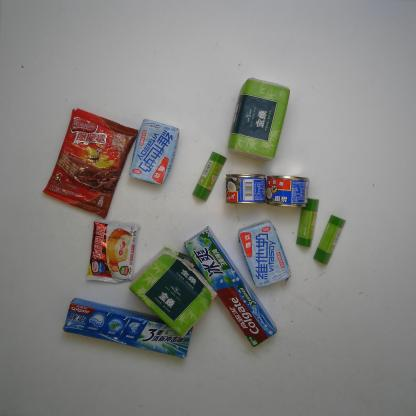Canned Food: (262, 174, 310, 210), (223, 168, 268, 206)
Dessert: (40, 104, 141, 220), (83, 216, 144, 289)
Milk: (237, 219, 291, 292), (128, 118, 183, 186)
Personal Hygiene: (182, 228, 279, 350), (62, 295, 196, 361)
Stationery: (192, 148, 229, 202), (310, 213, 347, 267), (292, 193, 320, 246)
Tissue: (128, 246, 221, 340), (224, 74, 296, 164)
